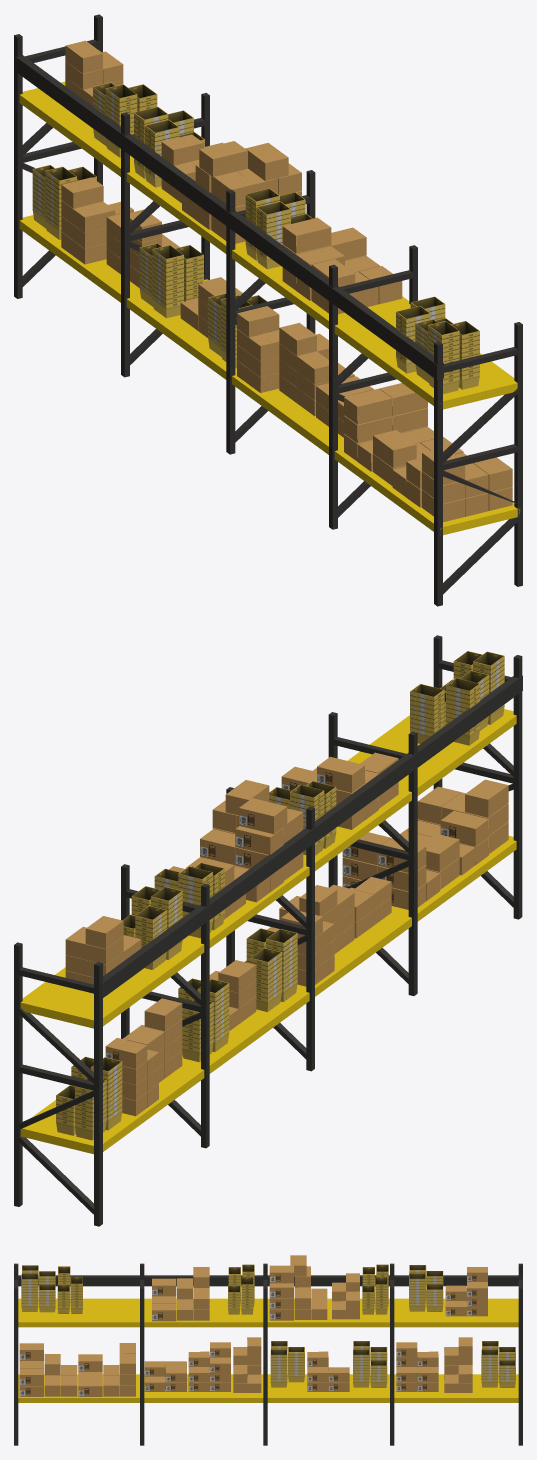
File: rack_f.glb
3 renders of one model, top to bottom at view 1: azimuth 30°, elevation 25°; view 2: azimuth 150°, elevation 25°; view 3: azimuth 270°, elevation 25°, orthographic. The views are drawn at different scales.
Visible parts, largest first — view 1: aws_robomaker_warehouse_ShelfF_01_visual-lib, aws_robomaker_warehouse_ShelfF_01_visual-lib_1, aws_robomaker_warehouse_ShelfF_01_visual-lib_2; view 2: aws_robomaker_warehouse_ShelfF_01_visual-lib, aws_robomaker_warehouse_ShelfF_01_visual-lib_1, aws_robomaker_warehouse_ShelfF_01_visual-lib_2; view 3: aws_robomaker_warehouse_ShelfF_01_visual-lib_1, aws_robomaker_warehouse_ShelfF_01_visual-lib, aws_robomaker_warehouse_ShelfF_01_visual-lib_2.
Part boxes in pixels (x1,y1,x2,y2): aws_robomaker_warehouse_ShelfF_01_visual-lib: (14, 14, 522, 606); aws_robomaker_warehouse_ShelfF_01_visual-lib_1: (61, 40, 512, 522); aws_robomaker_warehouse_ShelfF_01_visual-lib_2: (32, 82, 479, 393); aws_robomaker_warehouse_ShelfF_01_visual-lib: (14, 635, 522, 1226); aws_robomaker_warehouse_ShelfF_01_visual-lib_1: (65, 752, 508, 1116); aws_robomaker_warehouse_ShelfF_01_visual-lib_2: (56, 651, 504, 1140); aws_robomaker_warehouse_ShelfF_01_visual-lib_1: (19, 1255, 487, 1396); aws_robomaker_warehouse_ShelfF_01_visual-lib: (14, 1263, 522, 1445); aws_robomaker_warehouse_ShelfF_01_visual-lib_2: (21, 1264, 515, 1387).
Bounding box in the file's own units: 2.12 × 6.53 × 18.05.
3 materials, 3 textured.
